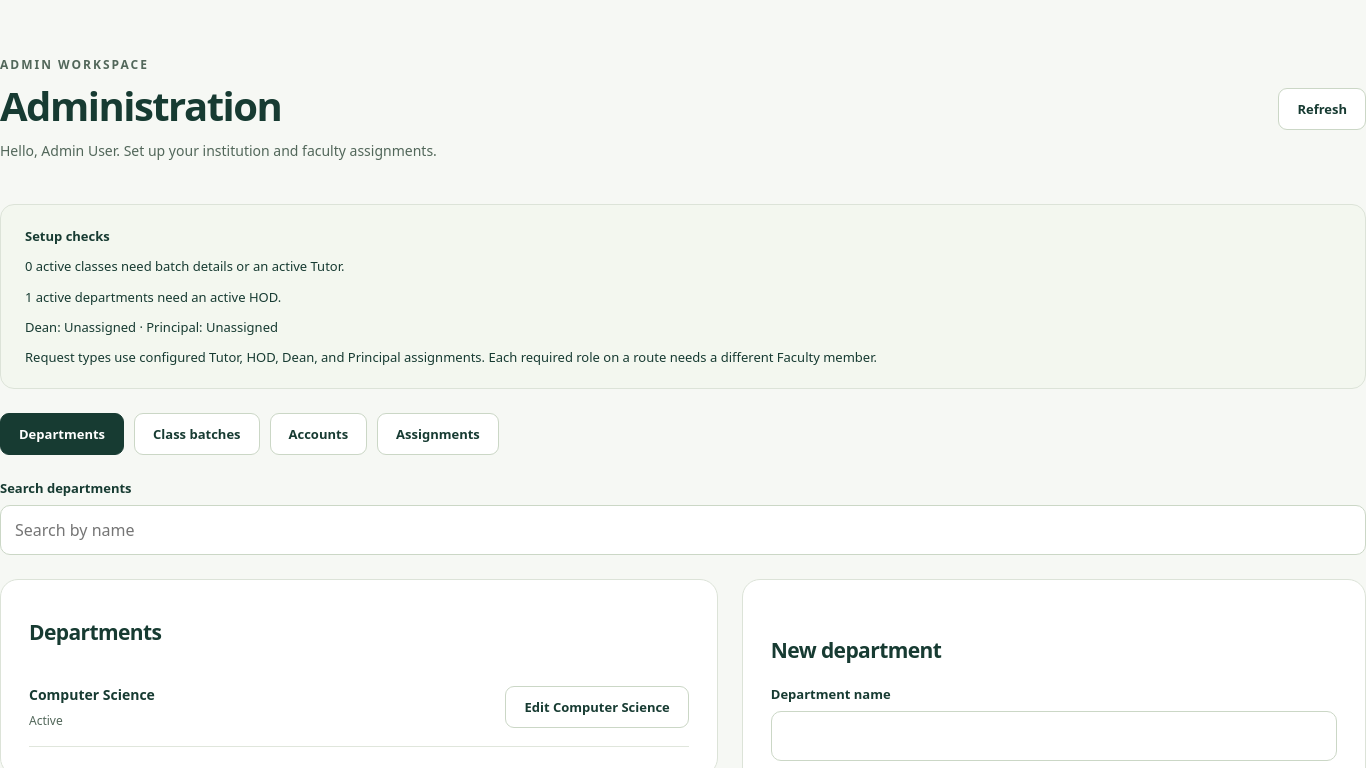
Test: Admin workspace › shows setup gaps, searches departments, and saves explicit edits
Expected: the text "1 active departments need an active HOD." is shown, [25, 288, 281, 306]
Step 1. Click the button "Edit Computer Science" → (597, 707), box [505, 686, 689, 728]
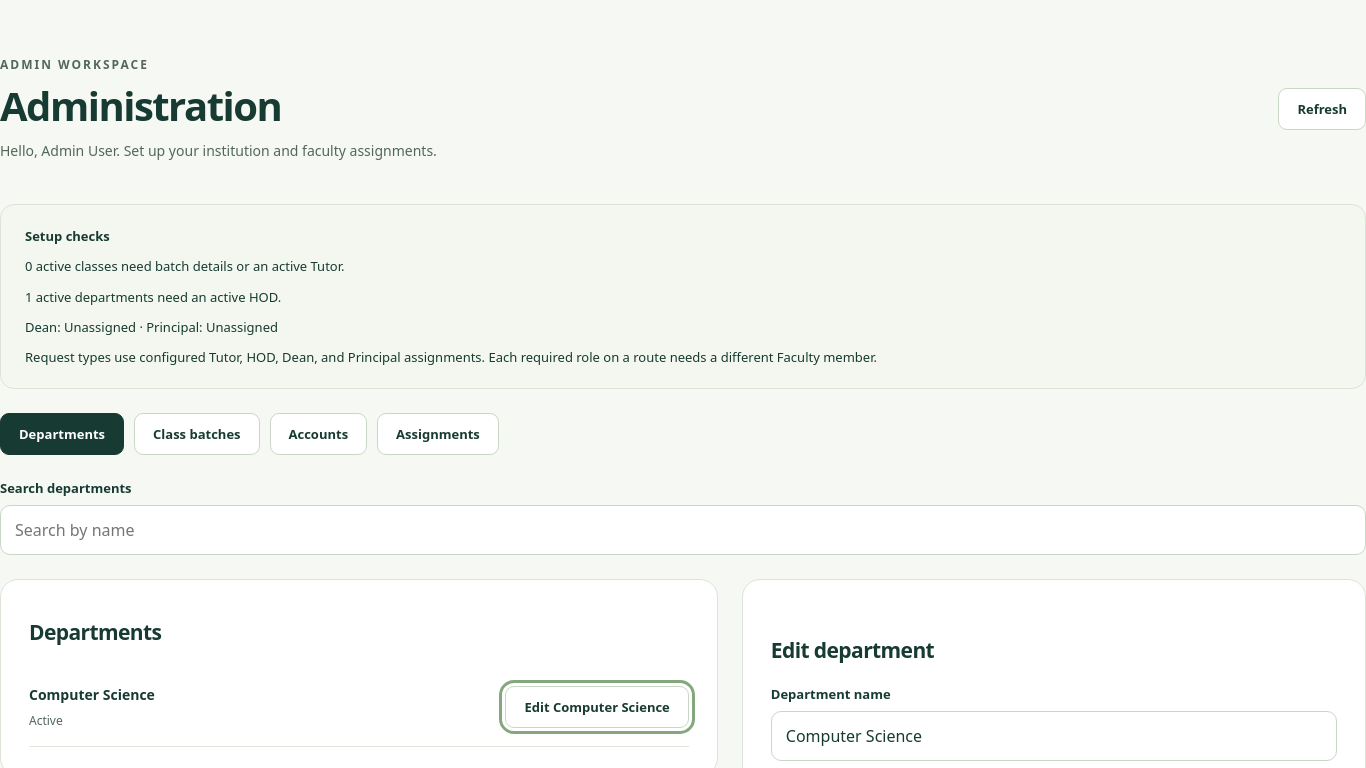
Step 2. Replace the text in the field labelled "Department name" with "Computing" → (1054, 736), box [771, 711, 1337, 761]
(page scrolled)
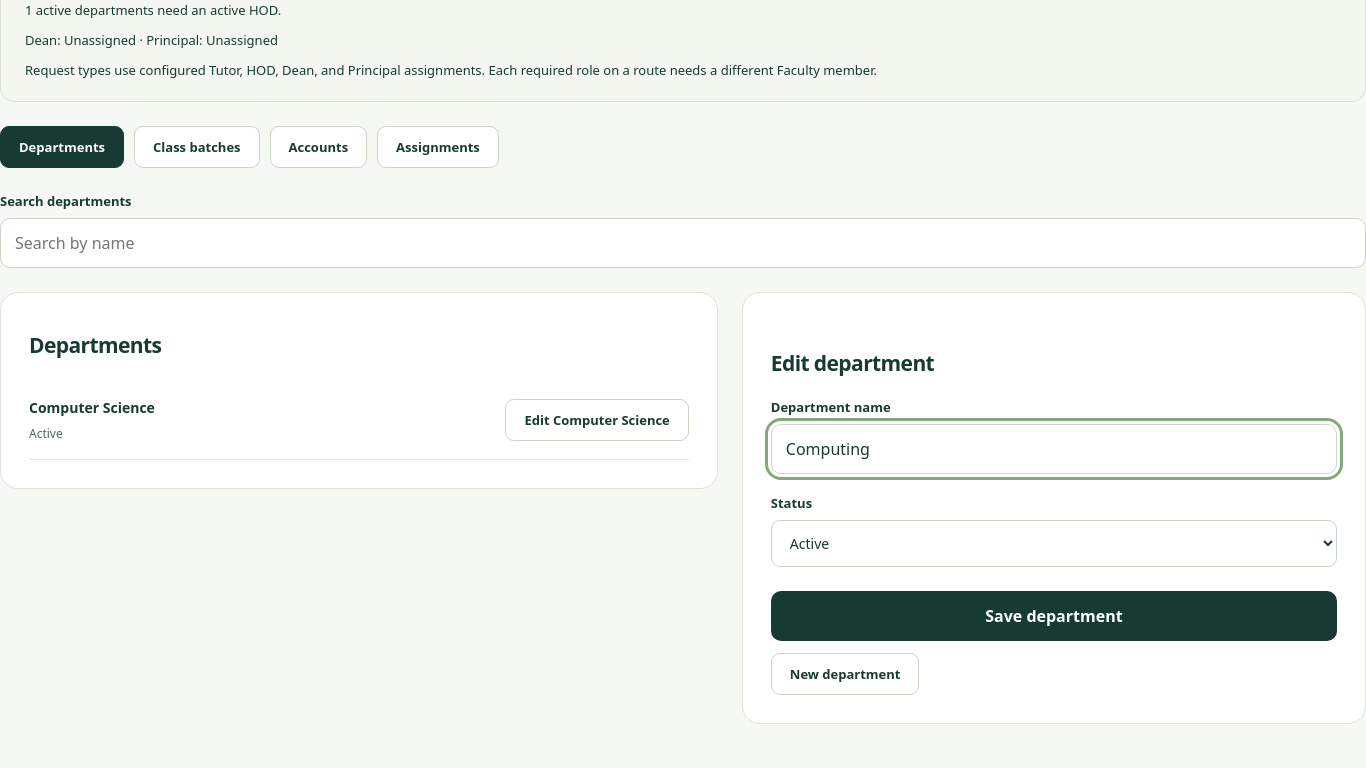
Step 3. Click the button "Save department" → (1054, 616), box [771, 591, 1337, 641]
(page scrolled)
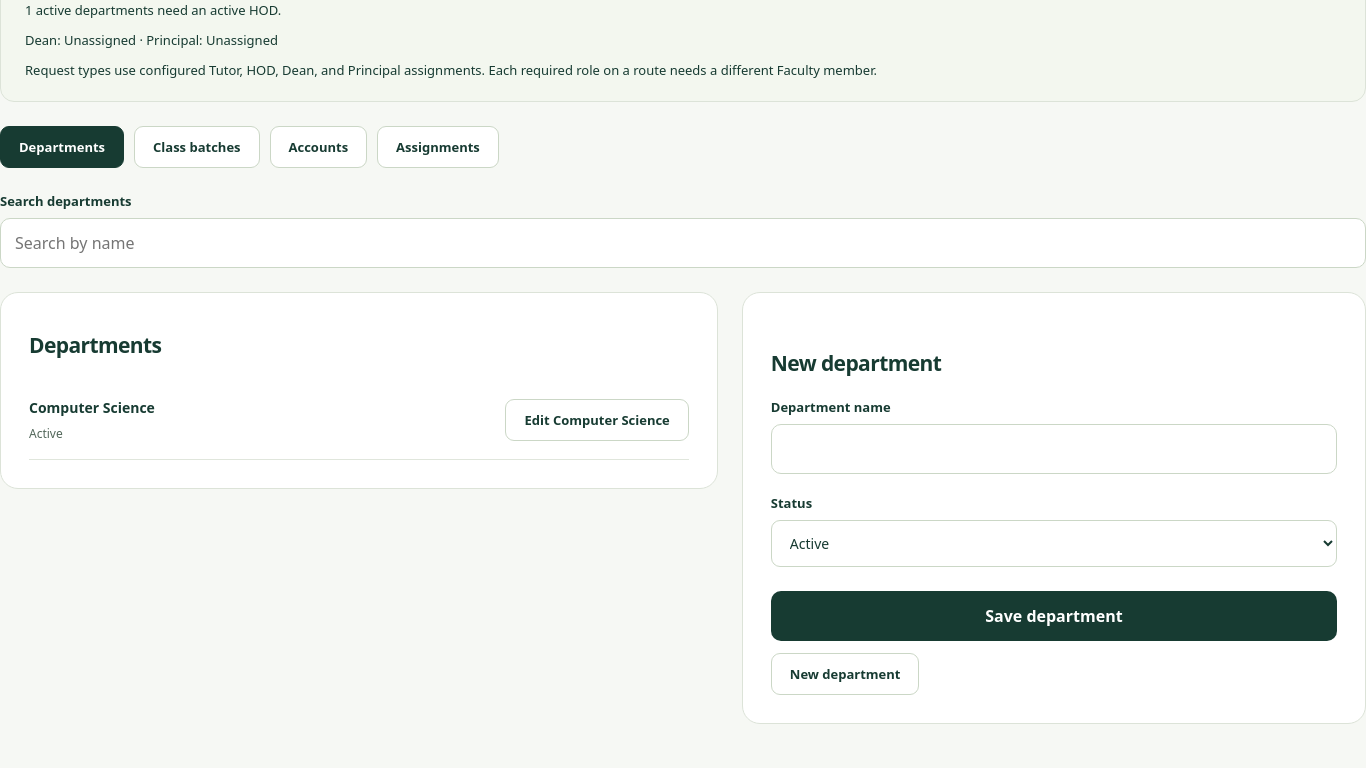
Step 4. Type "missing" into the search field labelled "Search departments" → (683, 243), box [0, 218, 1365, 268]
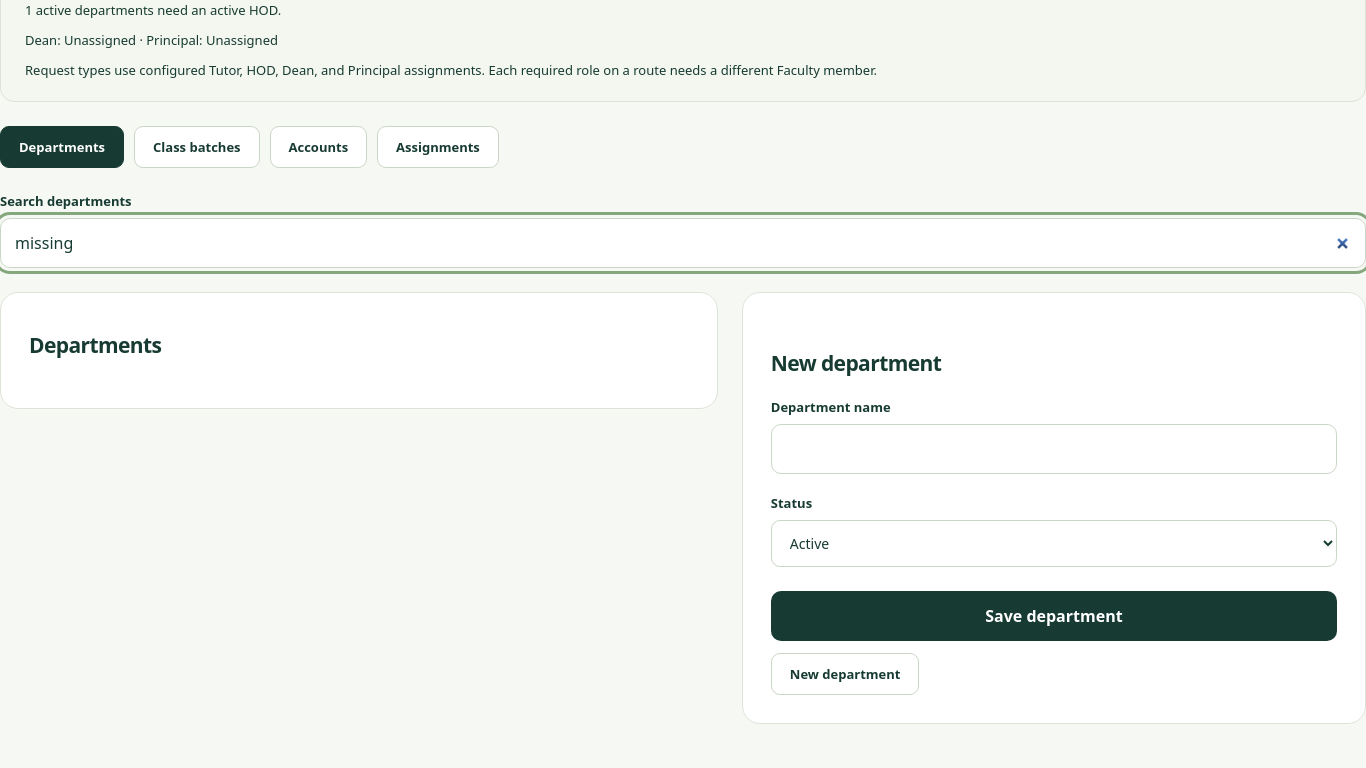
Expected: the button "Edit Computer Science" is gone
